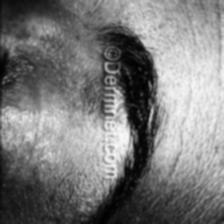Toxin: (88, 71, 120, 125)
